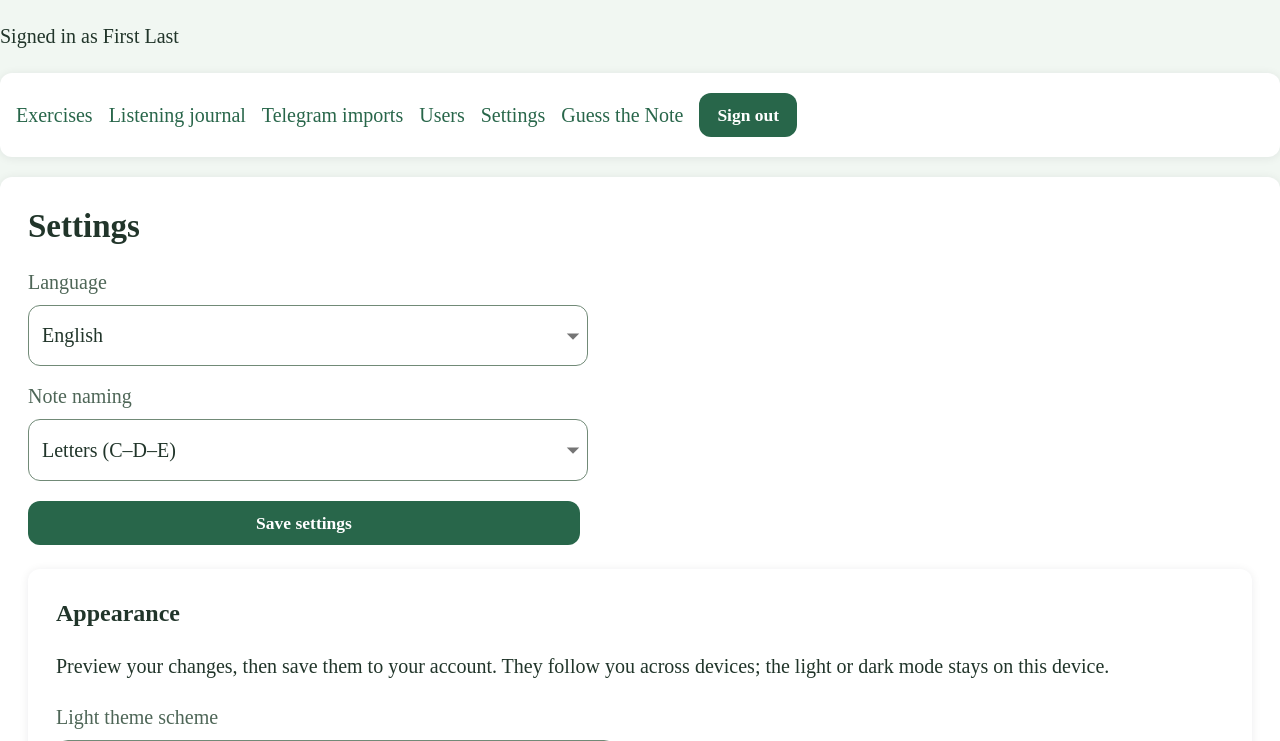
it: applies saved account appearance and restores the standard appearance on logout
Click the button "Sign out".
click(748, 115)  # box left=699, top=93, right=797, bottom=137
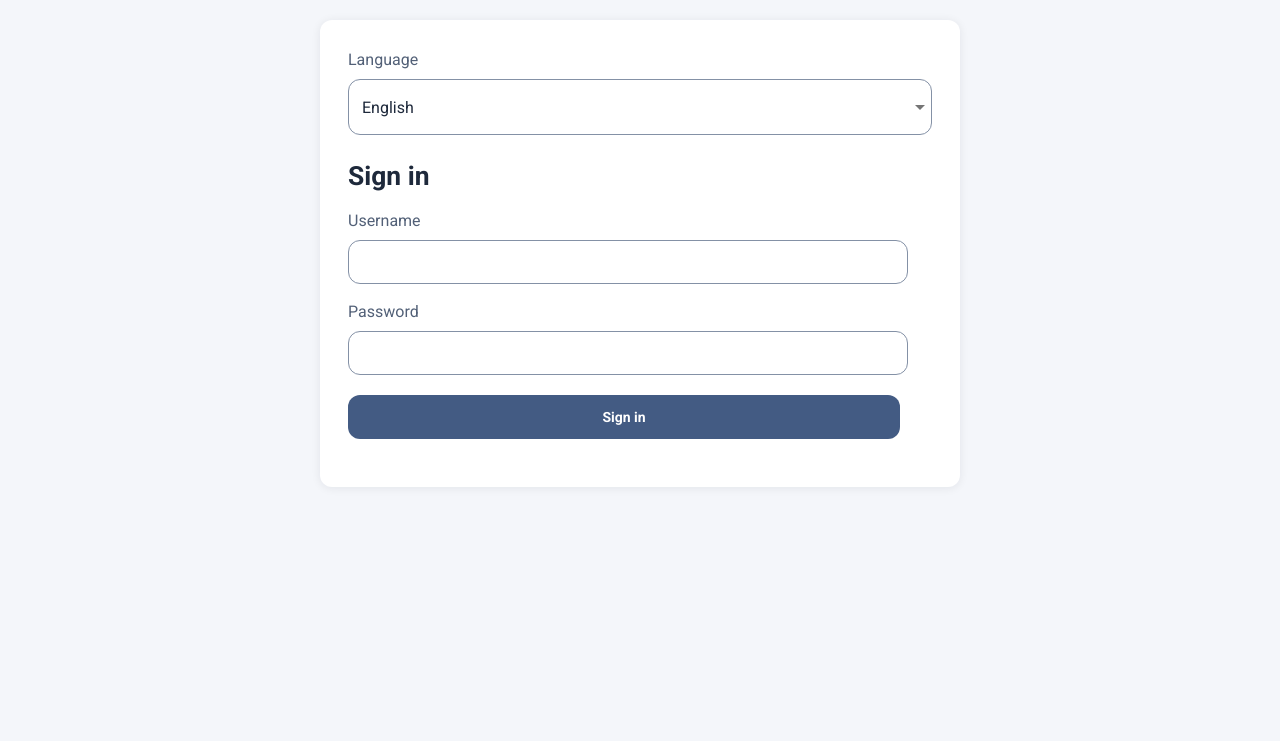
Check: the field labelled "Username" is shown, box left=348, top=242, right=908, bottom=282
